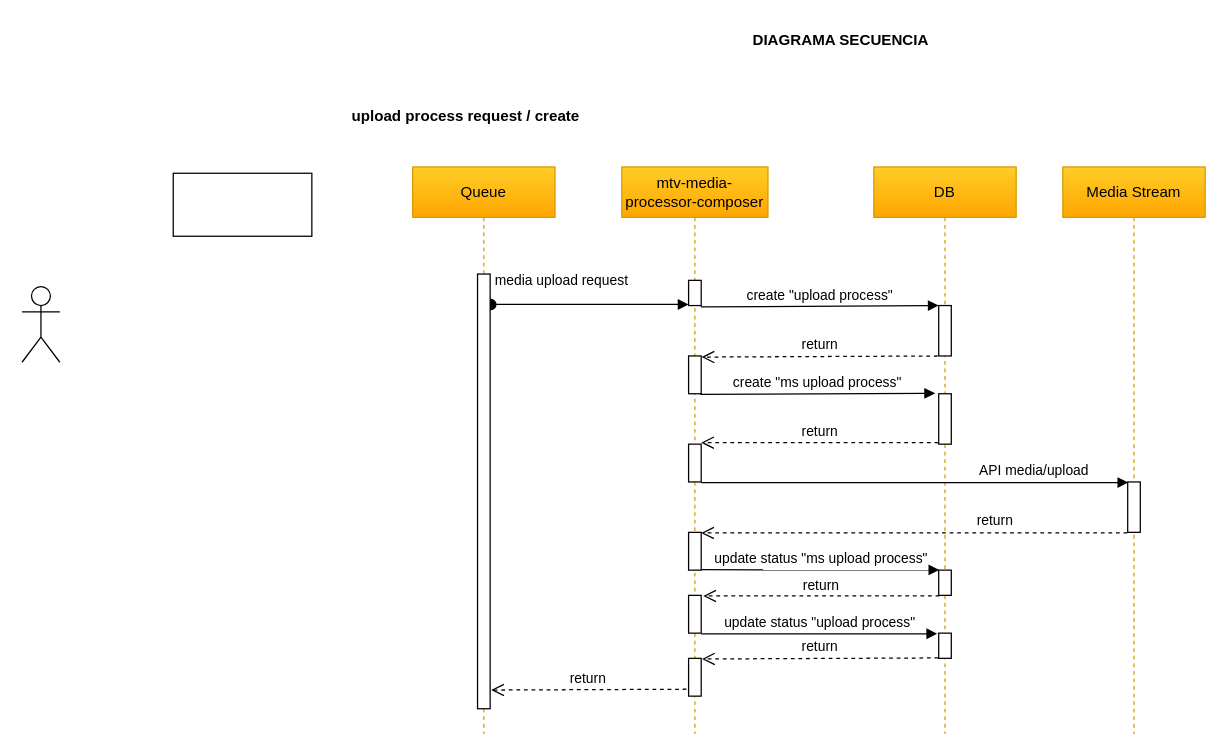
Some shapes in this 1227 by 756 pixel diagram are drawn without their labels. Here are the shapes that lost their labels. From the top down, the box of each, then its label:
(172, 172, 312, 236): Object
(21, 285, 60, 362): Actor
